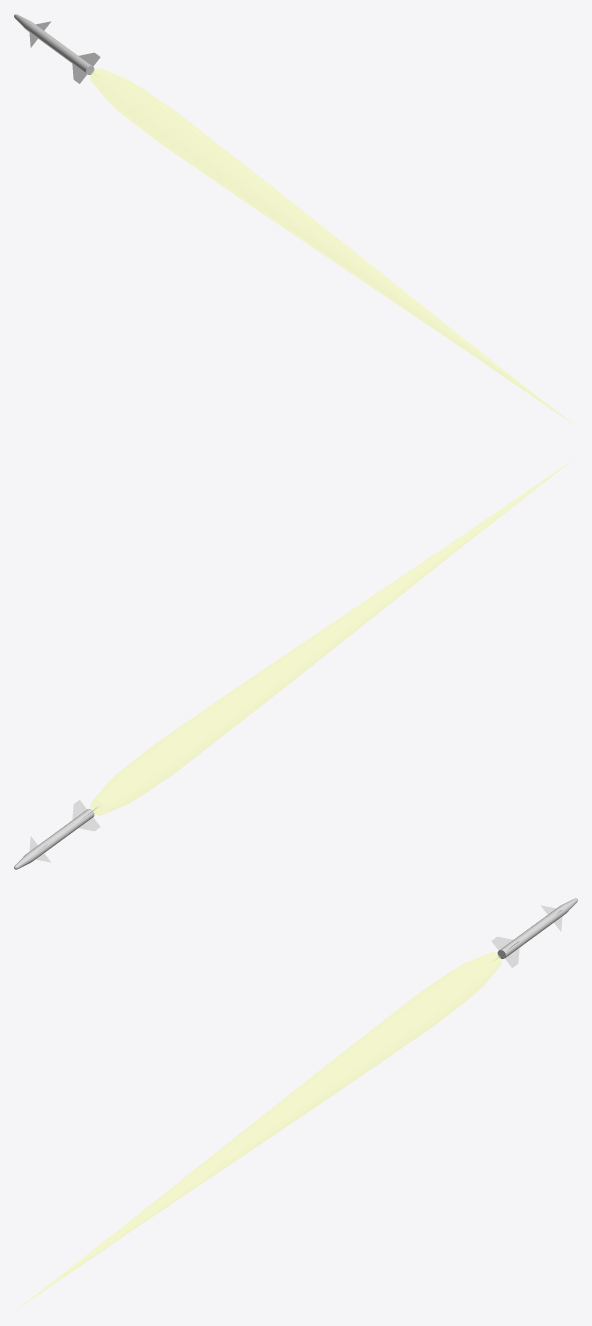
The picture shows the model from 3 angles, top to bottom: view 1: azimuth 30°, elevation 25°; view 2: azimuth 150°, elevation 25°; view 3: azimuth 330°, elevation 25°; orthographic projection.
Visible parts, largest first — view 1: after-burner, body; view 2: after-burner, body; view 3: after-burner, body.
Boxes of the visible parts, x1,y1,x2,y2 form: after-burner: (90, 68, 573, 424); body: (14, 14, 100, 83); after-burner: (90, 459, 573, 815); body: (14, 800, 100, 869); after-burner: (18, 952, 501, 1308); body: (491, 898, 577, 967).
Bounding box in the file's own units: 0.7269 × 0.7269 × 22.98.
